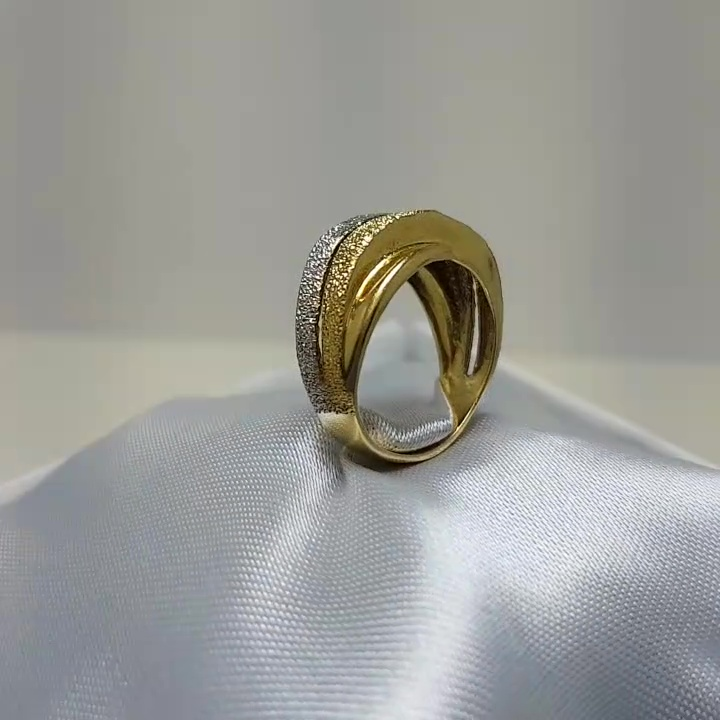Ring 5: (266, 199, 518, 481)
